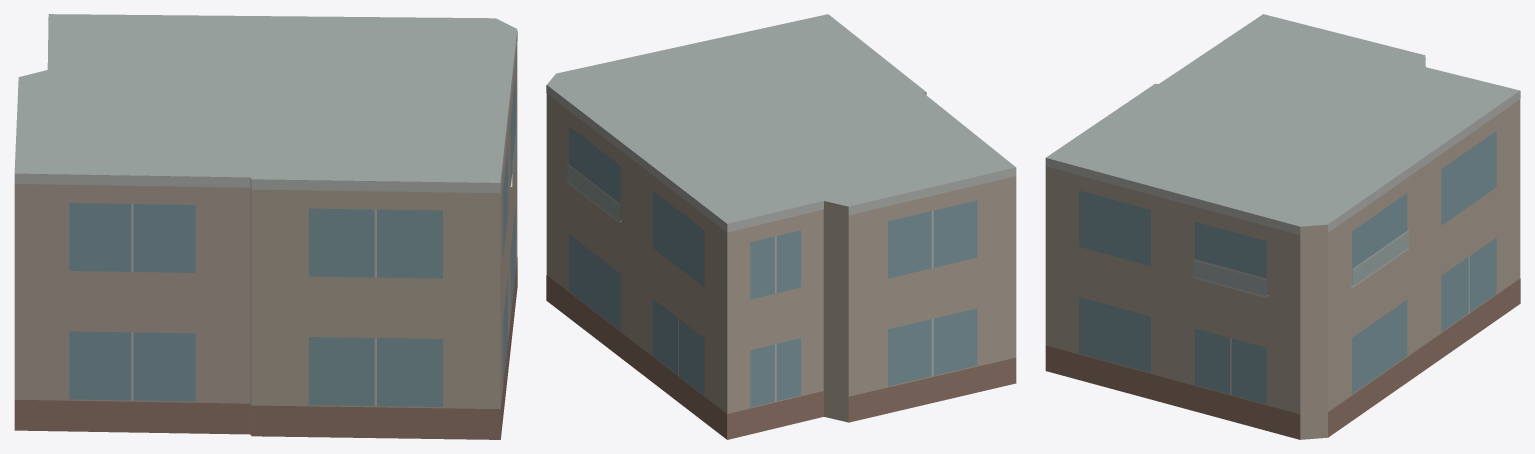
Rendered from survey-upis-32759292.glb.
The picture shows the model from 3 angles, left to right: view 1: azimuth 30°, elevation 25°; view 2: azimuth 150°, elevation 25°; view 3: azimuth 270°, elevation 25°; orthographic projection. The views are drawn at different scales.
Visible parts, largest first — view 1: survey-upis-32759292.tmp; view 2: survey-upis-32759292.tmp; view 3: survey-upis-32759292.tmp.
Boxes of the visible parts, x1,y1,x2,y2 form: survey-upis-32759292.tmp: (14,14,517,439); survey-upis-32759292.tmp: (546,14,1016,439); survey-upis-32759292.tmp: (1045,14,1520,439).
Bounding box in the file's own units: 13.06 × 6.1 × 12.32.
